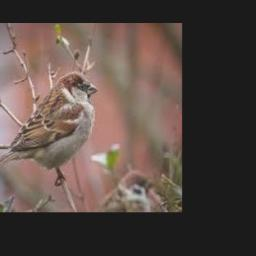Sparrow: (0, 71, 98, 184)
